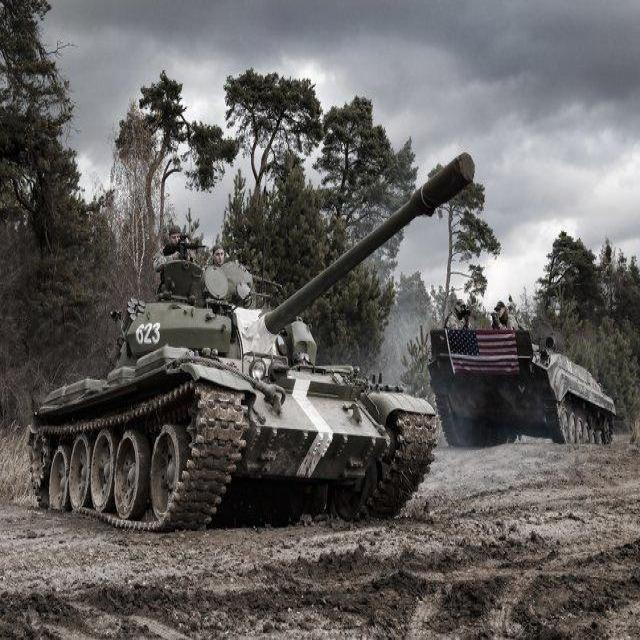Tanks: (20, 224, 442, 576), (427, 304, 631, 446)
